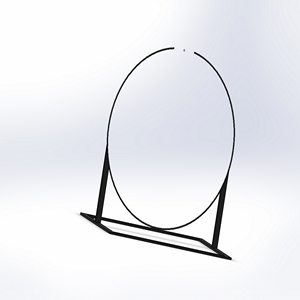circle: (76, 42, 240, 263)
